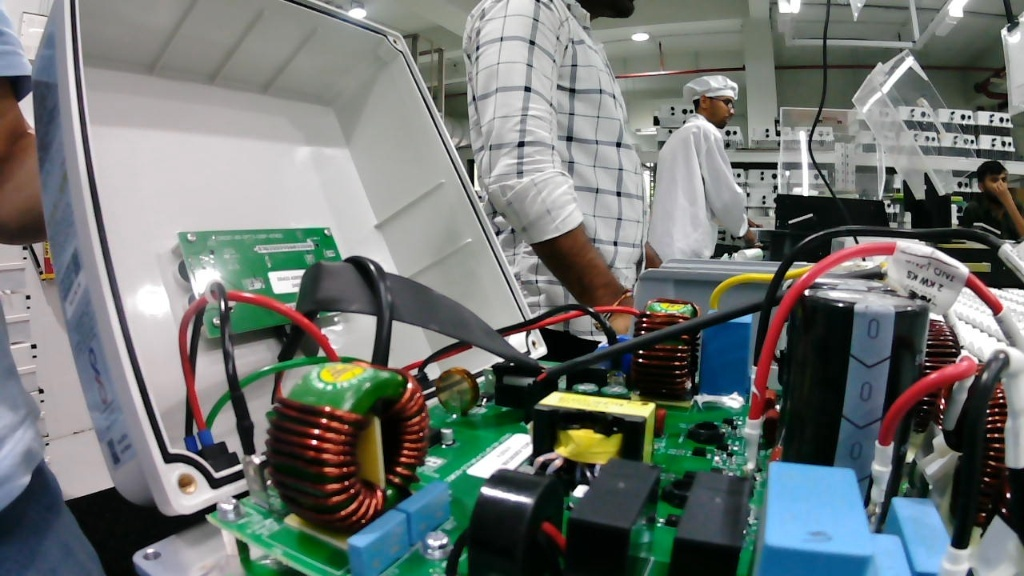wire_red: (162, 362, 247, 480)
